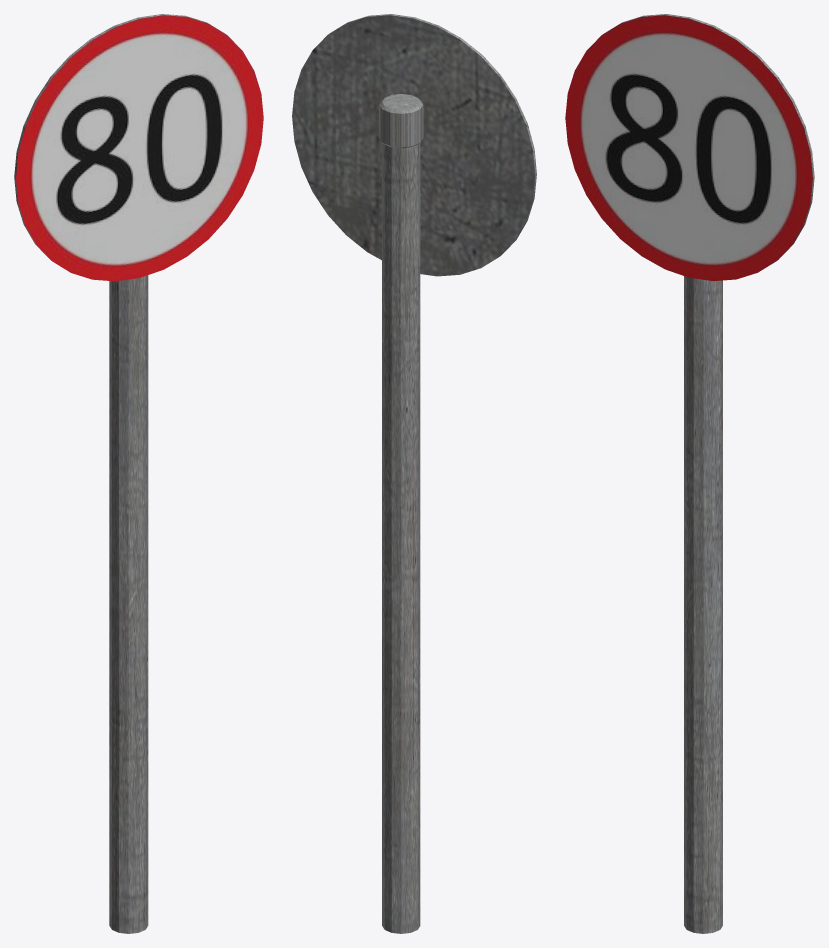
File: modular-city-road-pack-game-ready-cylinder-004-23.glb
The picture shows the model from 3 angles, left to right: view 1: azimuth 30°, elevation 25°; view 2: azimuth 150°, elevation 25°; view 3: azimuth 330°, elevation 25°; orthographic projection.
Parts seen in each view (by area): view 1: Cylinder.004_23; view 2: Cylinder.004_23; view 3: Cylinder.004_23.
Part boxes in pixels (box(x1,y1,x2,y2)): Cylinder.004_23: box(14, 14, 263, 933); Cylinder.004_23: box(292, 14, 536, 933); Cylinder.004_23: box(565, 14, 814, 933).
Size of the model in its own units: 0.6262 by 2.21 by 0.1049.
Materials: 2 (2 with a texture image).
